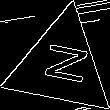N_W: (33, 41, 89, 90)
